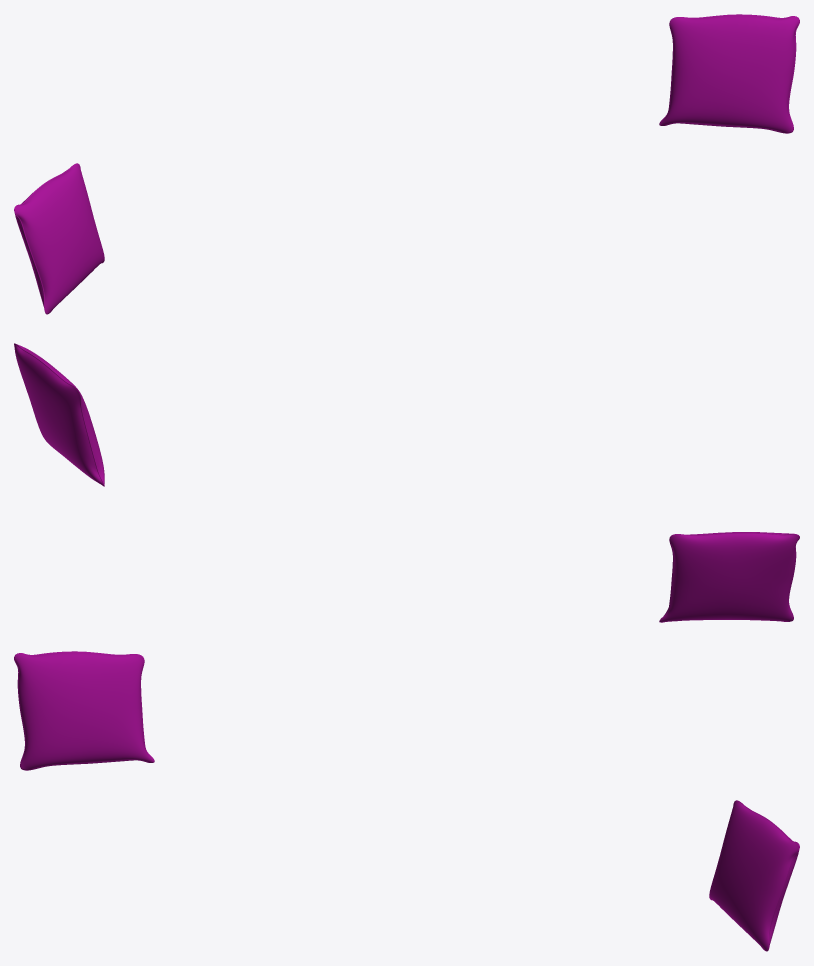
The model's file is HP_Coussin_Petit.fbx.
3 renders of one model, top to bottom at view 1: azimuth 30°, elevation 25°; view 2: azimuth 150°, elevation 25°; view 3: azimuth 330°, elevation 25°, orthographic.
Visible parts, largest first — view 1: HP_Coussin_Petit; view 2: HP_Coussin_Petit; view 3: HP_Coussin_Petit.
Boxes of the visible parts, x1,y1,x2,y2 form: HP_Coussin_Petit: [14, 14, 799, 314]; HP_Coussin_Petit: [14, 343, 799, 622]; HP_Coussin_Petit: [14, 651, 799, 951].
Size of the model in its own units: 261 by 33.13 by 25.72.
